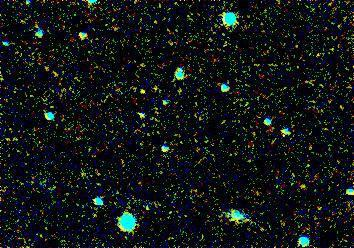star: (129, 76, 159, 106)
